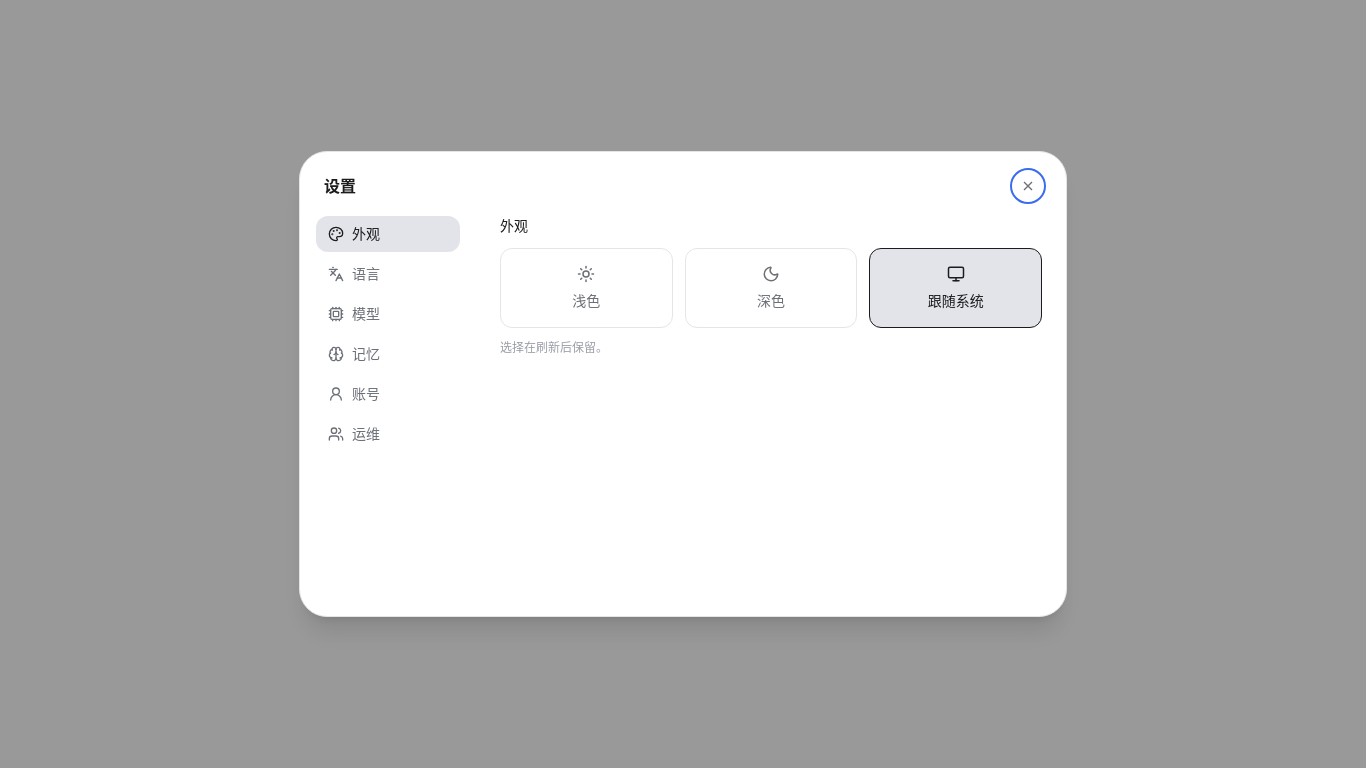
OpsPane table › changes the default limit above the table, which is the plugin default
Click the button "运维" at (388,434), box [316,416,460,452]
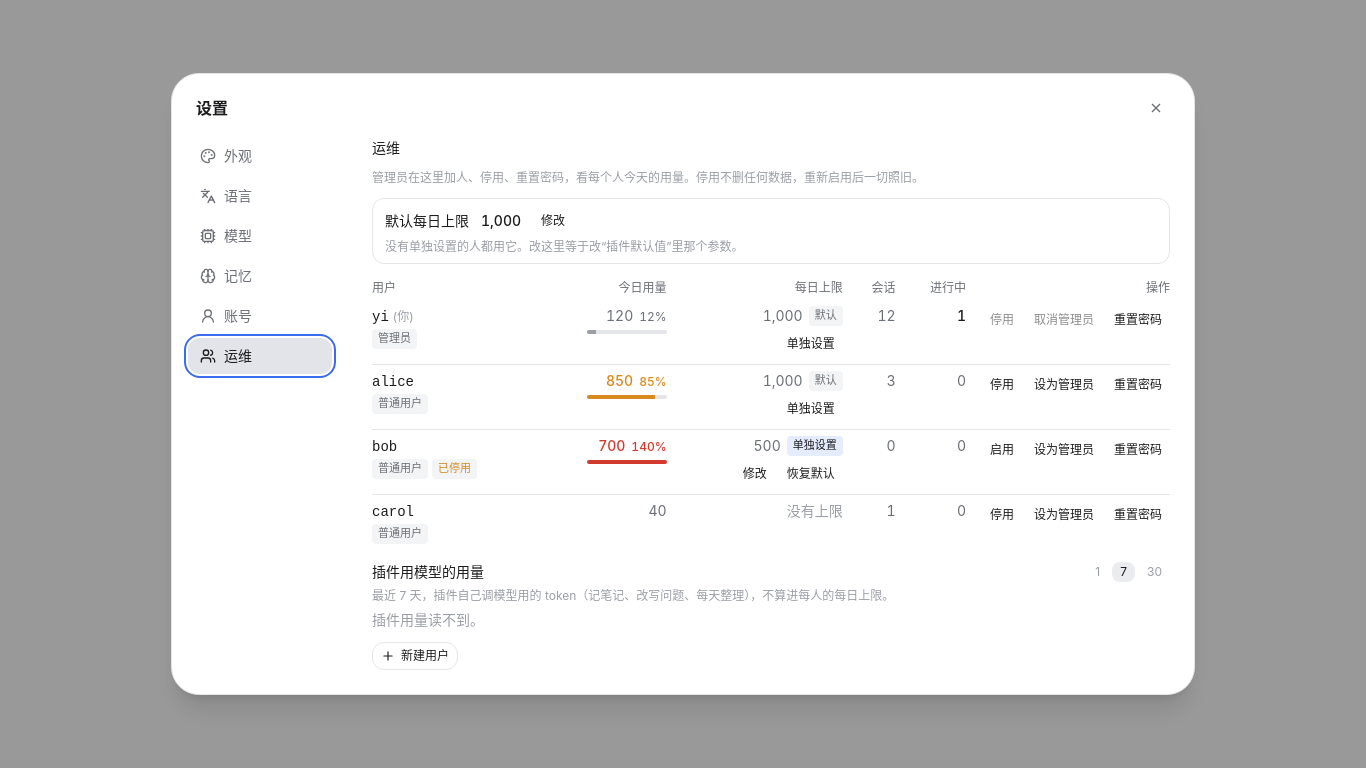
Expected: the text "alice" is shown, [372,374,414,390]
Expected: the text "默认每日上限" is shown, [385,211,469,231]
Click the button with aria-label "修改默认每日上限" at (553,221), box [533,207,573,235]
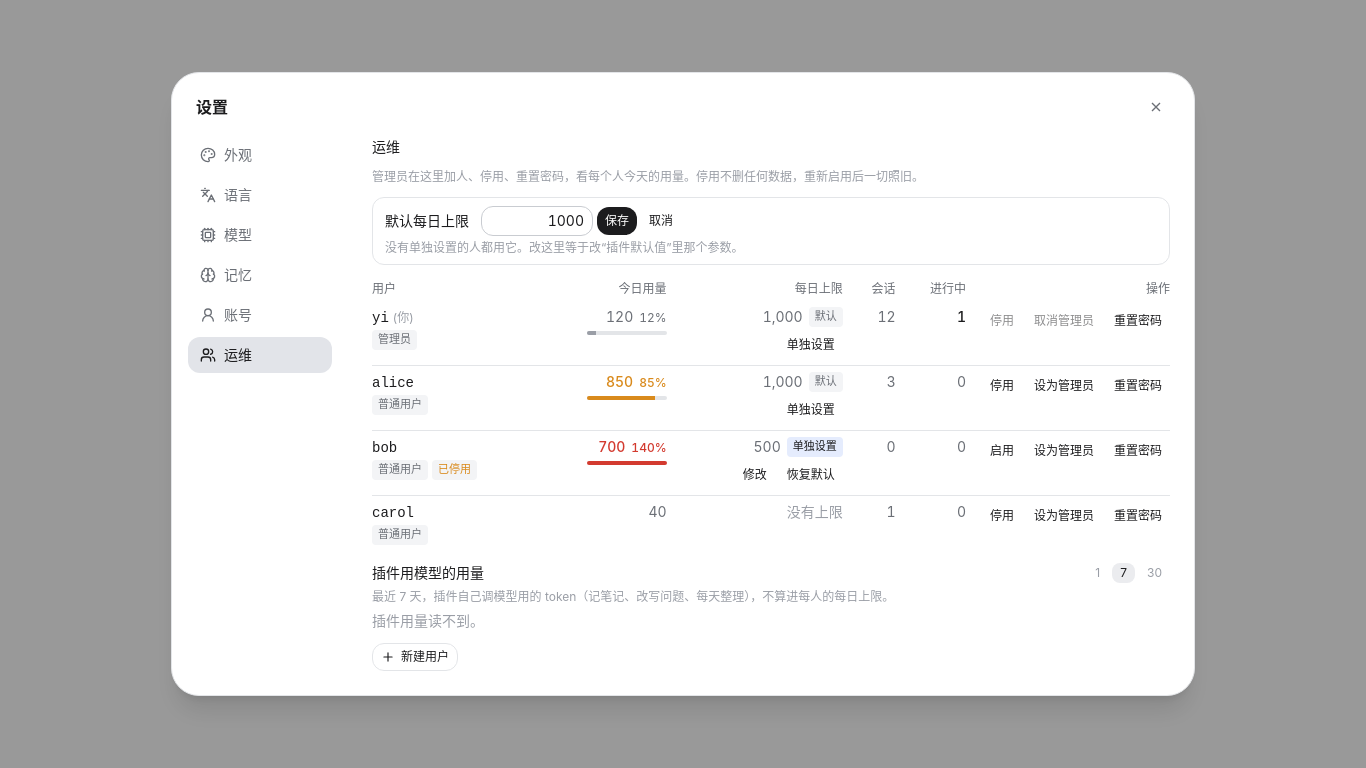
Replace the text in the field named "默认每日上限" with "7000" at (537,221), box [481,206,593,236]
Then press Enter
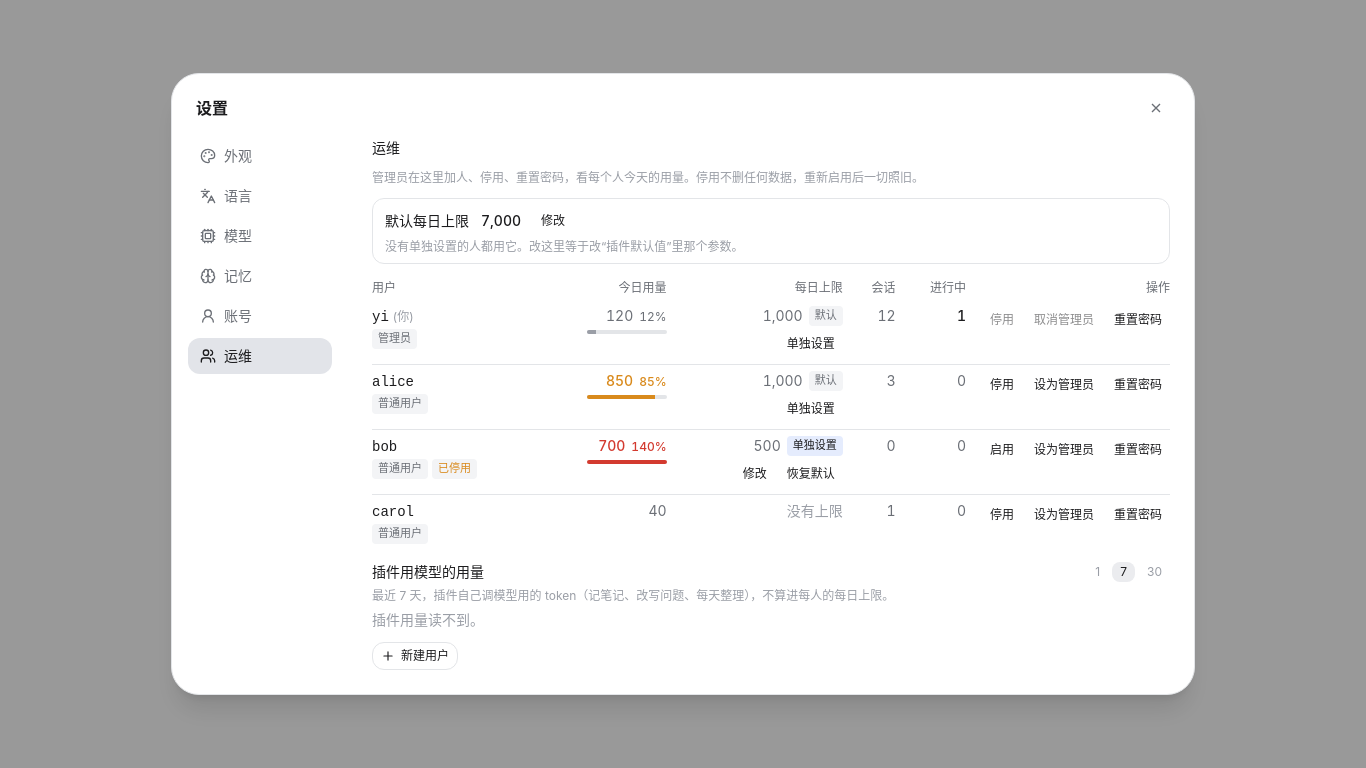
Expected: the text "7,000" is shown, [481,211,521,231]
